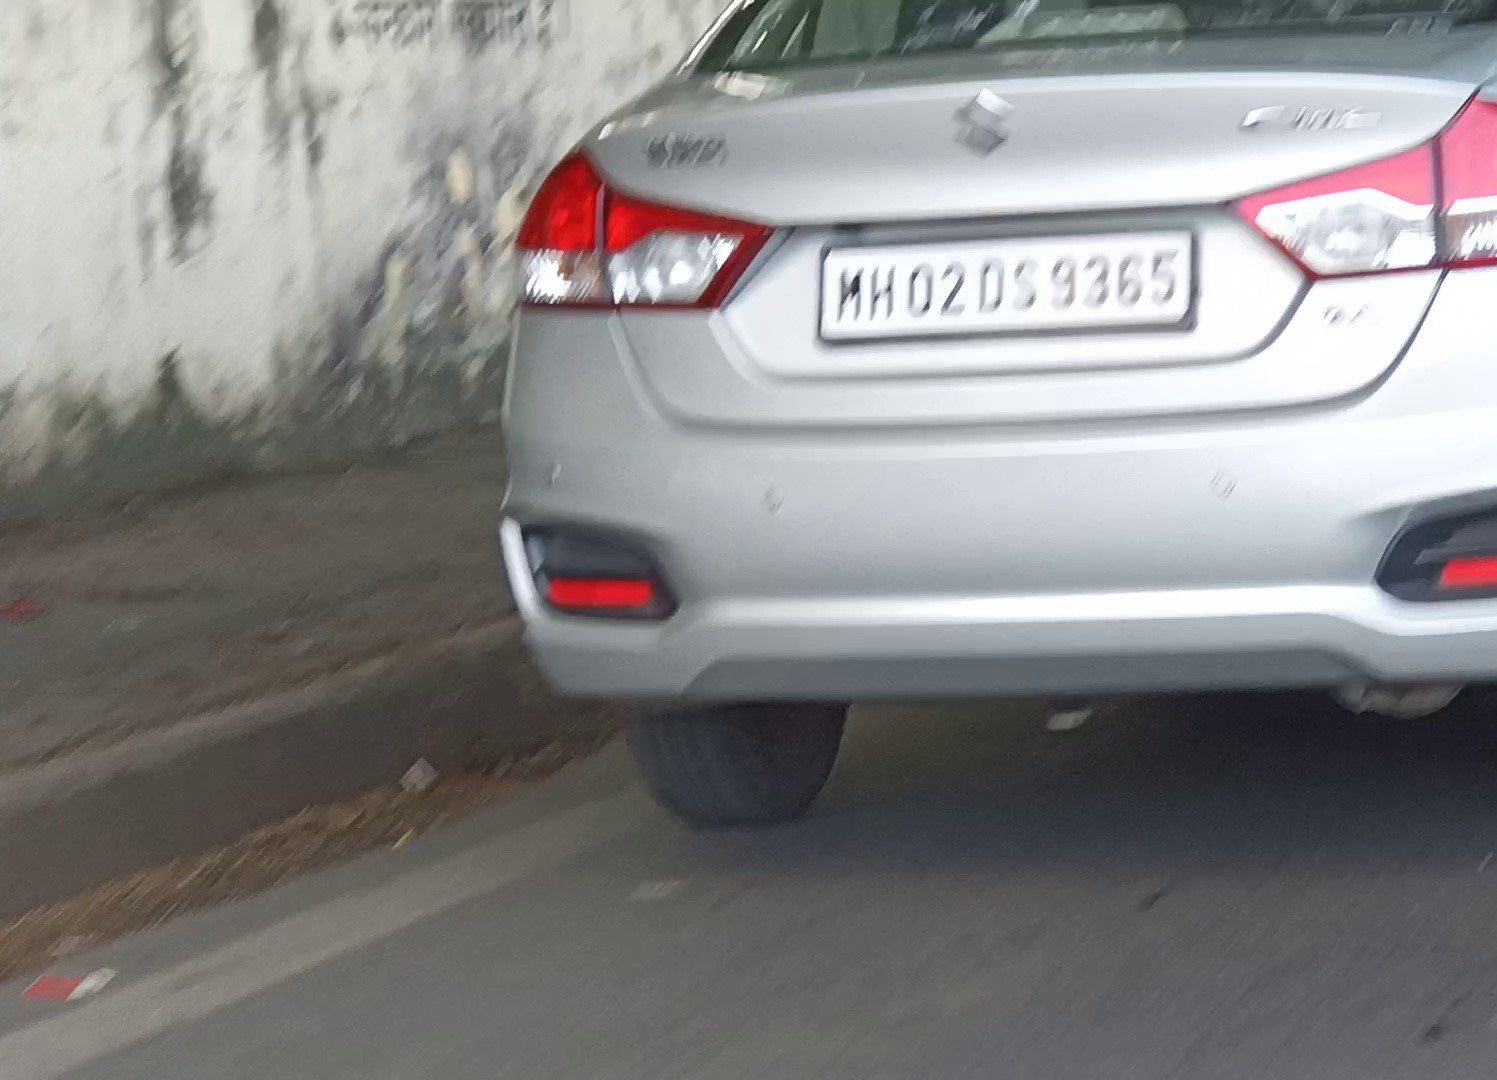MH02DS9365: (819, 231, 1191, 341)
